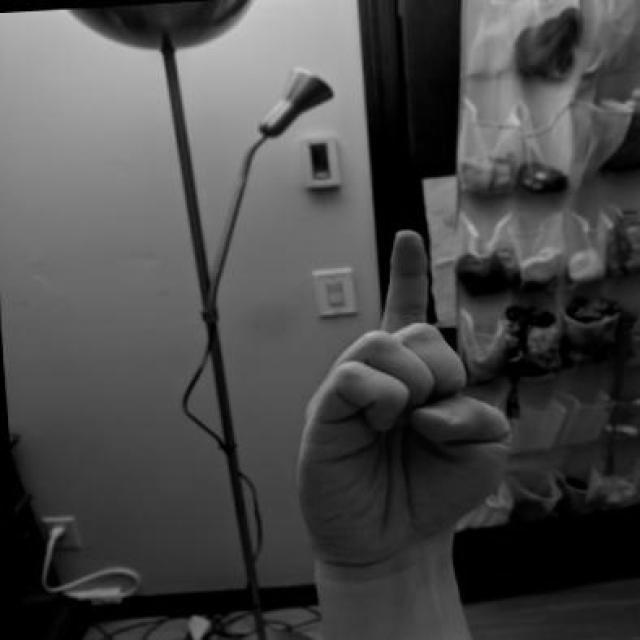D: (266, 219, 528, 581)
